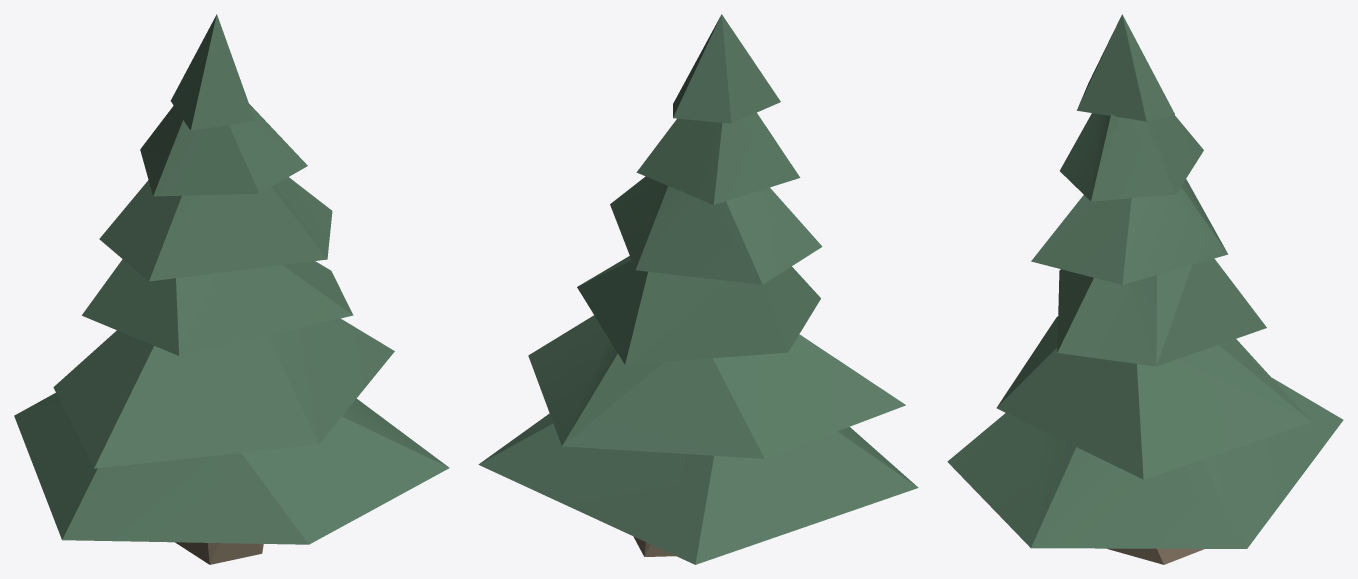
Rendered from Vegetation_Tree_Pine_05.fbx.
3 renders of one model, left to right at view 1: azimuth 30°, elevation 25°; view 2: azimuth 150°, elevation 25°; view 3: azimuth 270°, elevation 25°, orthographic. The views are drawn at different scales.
Parts seen in each view (by area): view 1: Vegetation_Tree_Pine_05; view 2: Vegetation_Tree_Pine_05; view 3: Vegetation_Tree_Pine_05.
Part boxes in pixels (x1,y1,x2,y2): Vegetation_Tree_Pine_05: [14, 14, 449, 564]; Vegetation_Tree_Pine_05: [478, 14, 918, 564]; Vegetation_Tree_Pine_05: [947, 14, 1343, 564].
Size of the model in its own units: 134 by 186 by 129.
